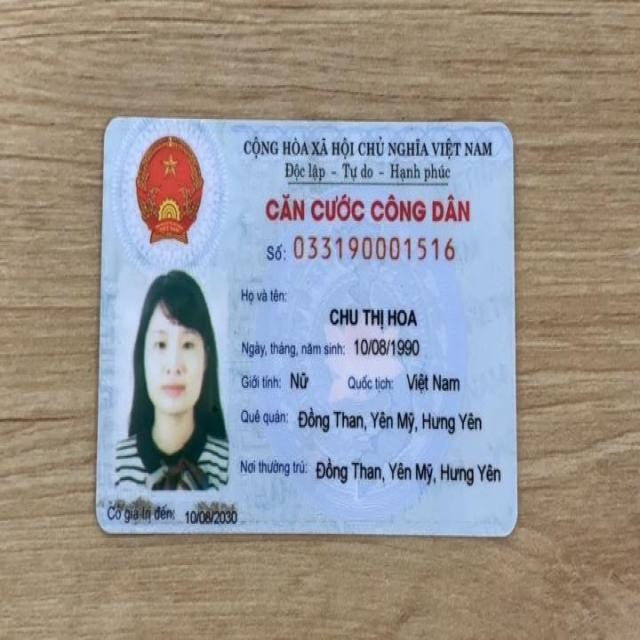bottom_left: (85, 504, 122, 543)
bottom_right: (488, 507, 526, 548)
image_person: (114, 271, 232, 494)
top_left: (96, 109, 124, 144)
top_right: (490, 113, 520, 150)
